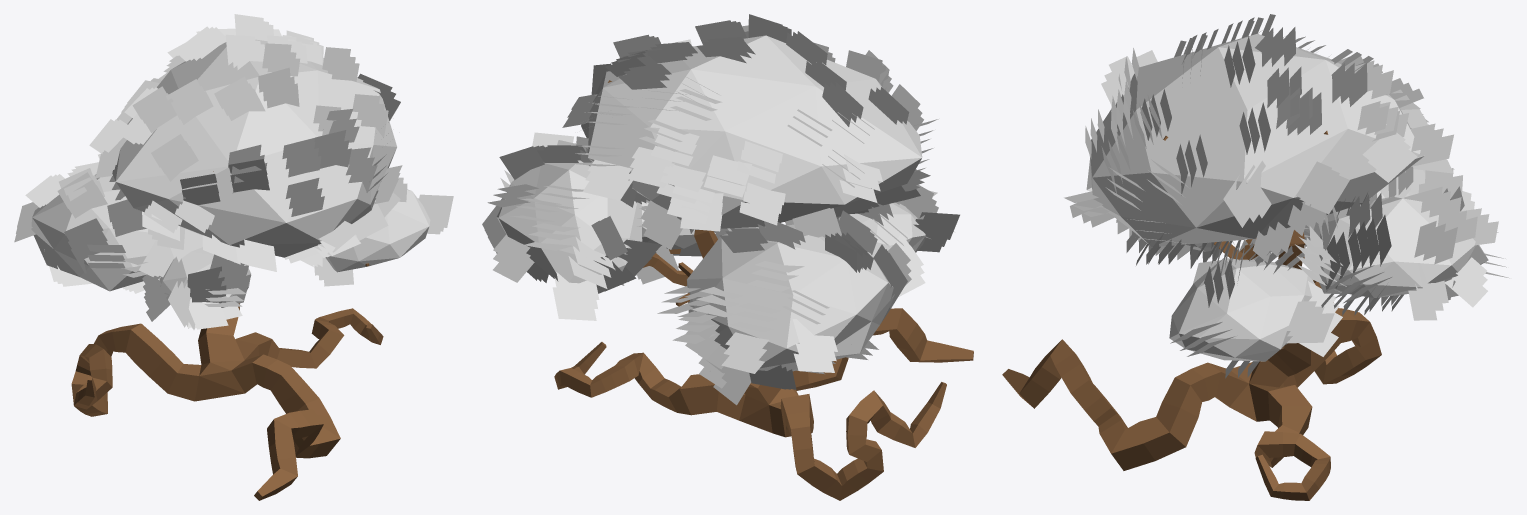
File: fluffy forrest tree1.fbx
3 views of the same model, side by side, from view 1: azimuth 30°, elevation 25°; view 2: azimuth 150°, elevation 25°; view 3: azimuth 270°, elevation 25° (orthographic). The views are drawn at different scales.
Parts seen in each view (by area): view 1: Plane.067, Icosphere.001, Cube.001; view 2: Plane.067, Icosphere.001, Cube.001; view 3: Icosphere.001, Plane.067, Cube.001.
Part boxes in pixels (left/top/right/bottom): Plane.067: left=14, top=14, right=453, bottom=329; Icosphere.001: left=31, top=39, right=430, bottom=303; Cube.001: left=71, top=171, right=383, bottom=500; Plane.067: left=482, top=14, right=959, bottom=405; Icosphere.001: left=497, top=35, right=925, bottom=371; Cube.001: left=554, top=80, right=973, bottom=500; Icosphere.001: left=1090, top=33, right=1488, bottom=361; Plane.067: left=1064, top=14, right=1509, bottom=378; Cube.001: left=1002, top=131, right=1381, bottom=500.
Size of the model in its own units: 6769 by 6932 by 7437.
